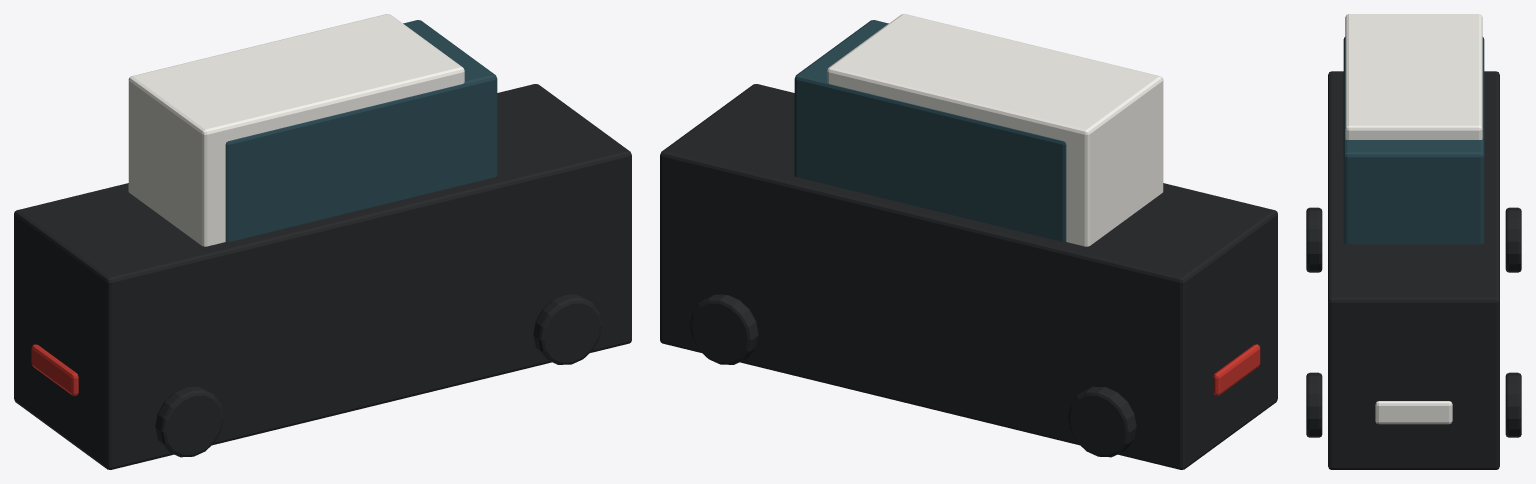
File: Vehicle_009.glb
3 renders of one model, left to right at view 1: azimuth 30°, elevation 25°; view 2: azimuth 150°, elevation 25°; view 3: azimuth 270°, elevation 25°, orthographic. The views are drawn at different scales.
Visible parts, largest first — view 1: Vehicle_009; view 2: Vehicle_009; view 3: Vehicle_009.
Part boxes in pixels (x1,y1,x2,y2): Vehicle_009: (14, 14, 631, 469); Vehicle_009: (660, 14, 1277, 469); Vehicle_009: (1306, 14, 1521, 469).
Size of the model in its own units: 6.2 by 3.36 by 2.38.
